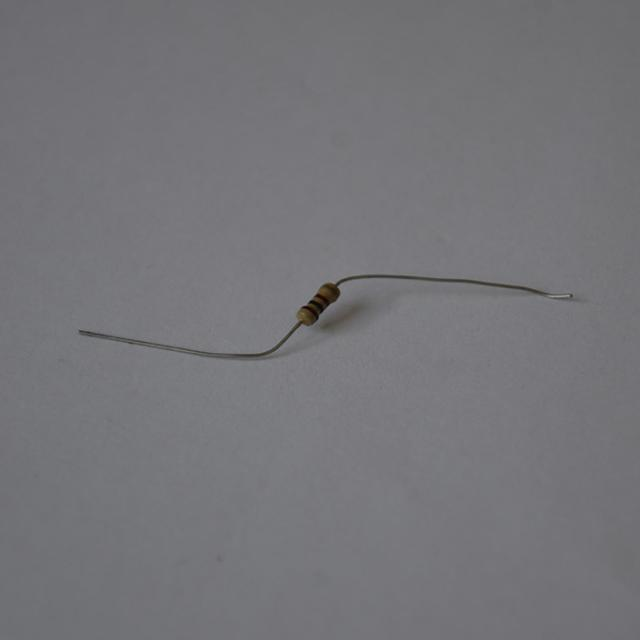Resistor Carbon-Film: (296, 281, 346, 330)
